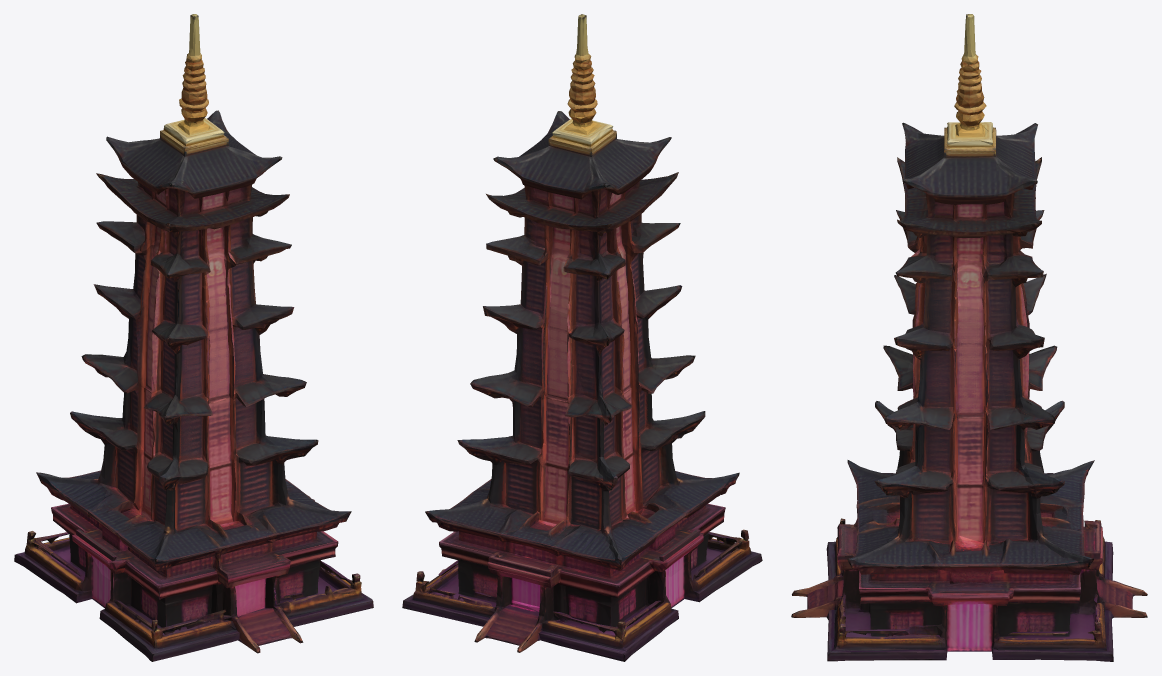
Rendered from cyberpagoda.fbx.
3 renders of one model, left to right at view 1: azimuth 30°, elevation 25°; view 2: azimuth 150°, elevation 25°; view 3: azimuth 270°, elevation 25°, orthographic. The views are drawn at different scales.
Visible parts, largest first — view 1: geometry_0; view 2: geometry_0; view 3: geometry_0.
Boxes of the visible parts, x1=… form: geometry_0: x1=14, y1=14, x2=373, y2=661; geometry_0: x1=402, y1=14, x2=762, y2=661; geometry_0: x1=791, y1=14, x2=1147, y2=661.
Size of the model in its own units: 0.4085 by 1 by 0.5468.
1 material, 1 textured.
